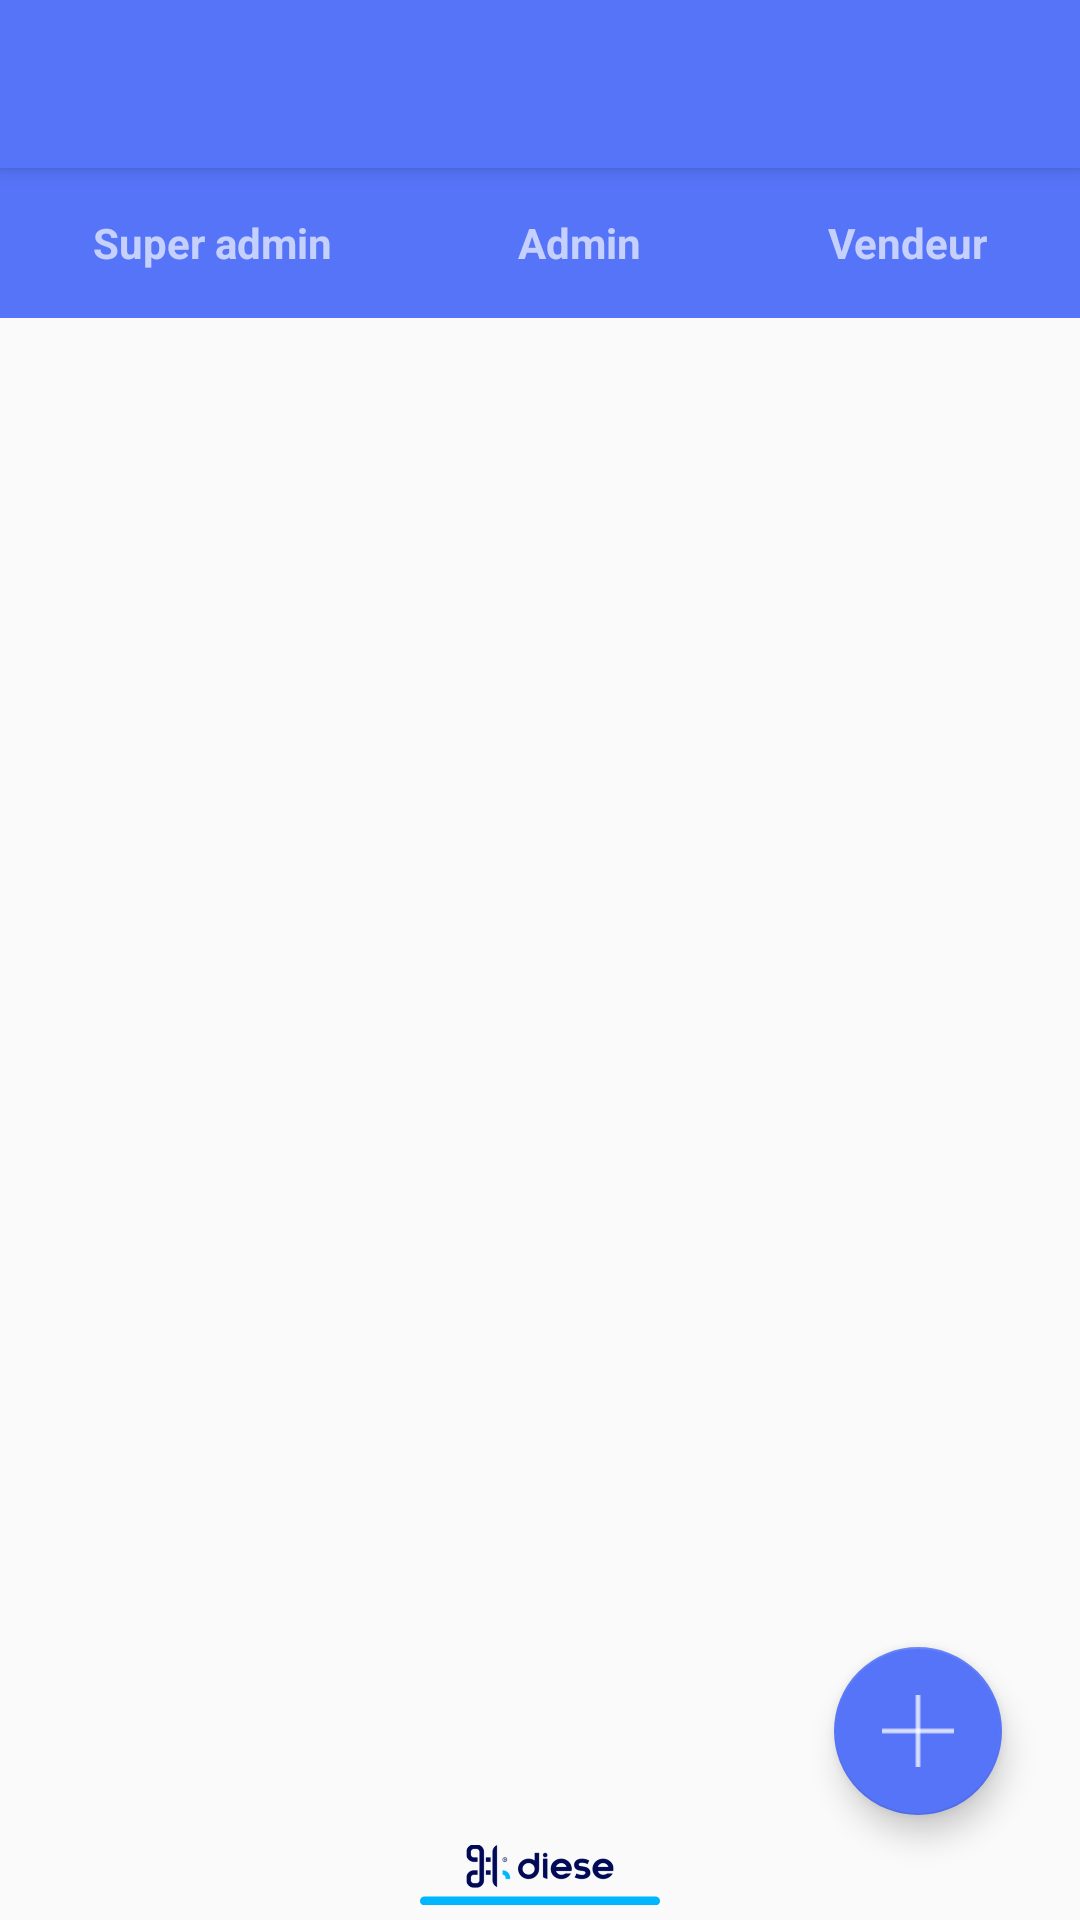

Named icons in this screenshot (1080x1920) and their centers, (x,y):
add: (918,1731)
